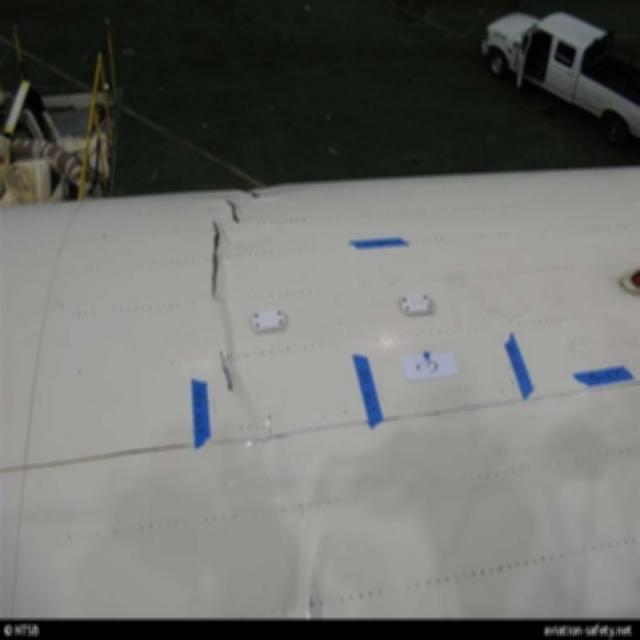crack: (203, 216, 228, 305), (213, 350, 236, 396), (224, 198, 243, 229)
